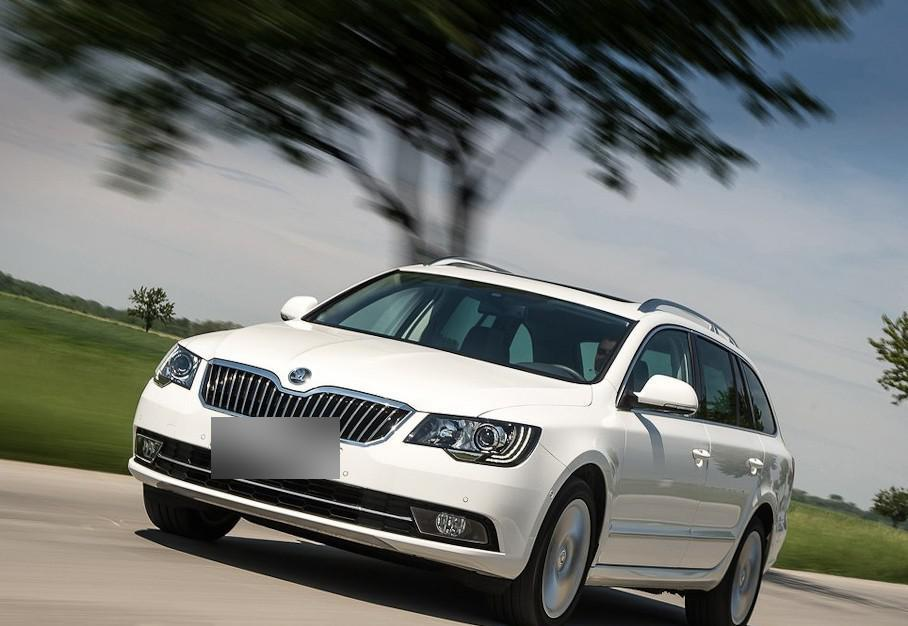Wagon: (129, 257, 796, 626)
